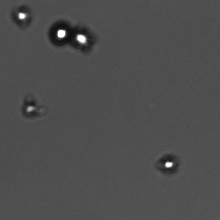Living Cell: (71, 25, 96, 53), (48, 17, 71, 47), (155, 152, 181, 175), (11, 5, 34, 27), (20, 96, 43, 117)
